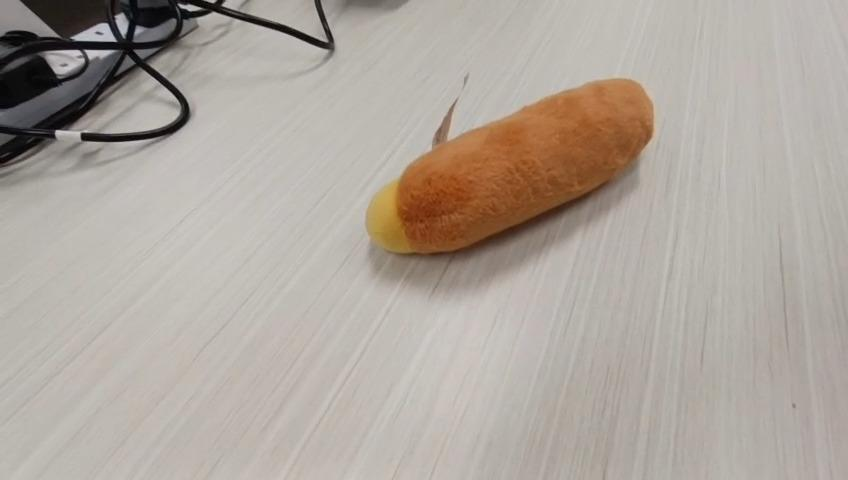hotdog: (364, 73, 654, 255)
